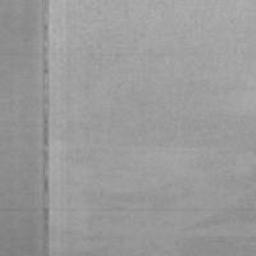Welding line: (40, 0, 51, 256)
